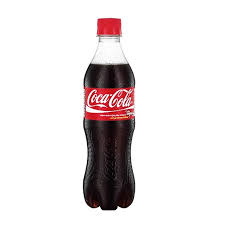coke-bottle-700ml: (82, 13, 139, 210)
